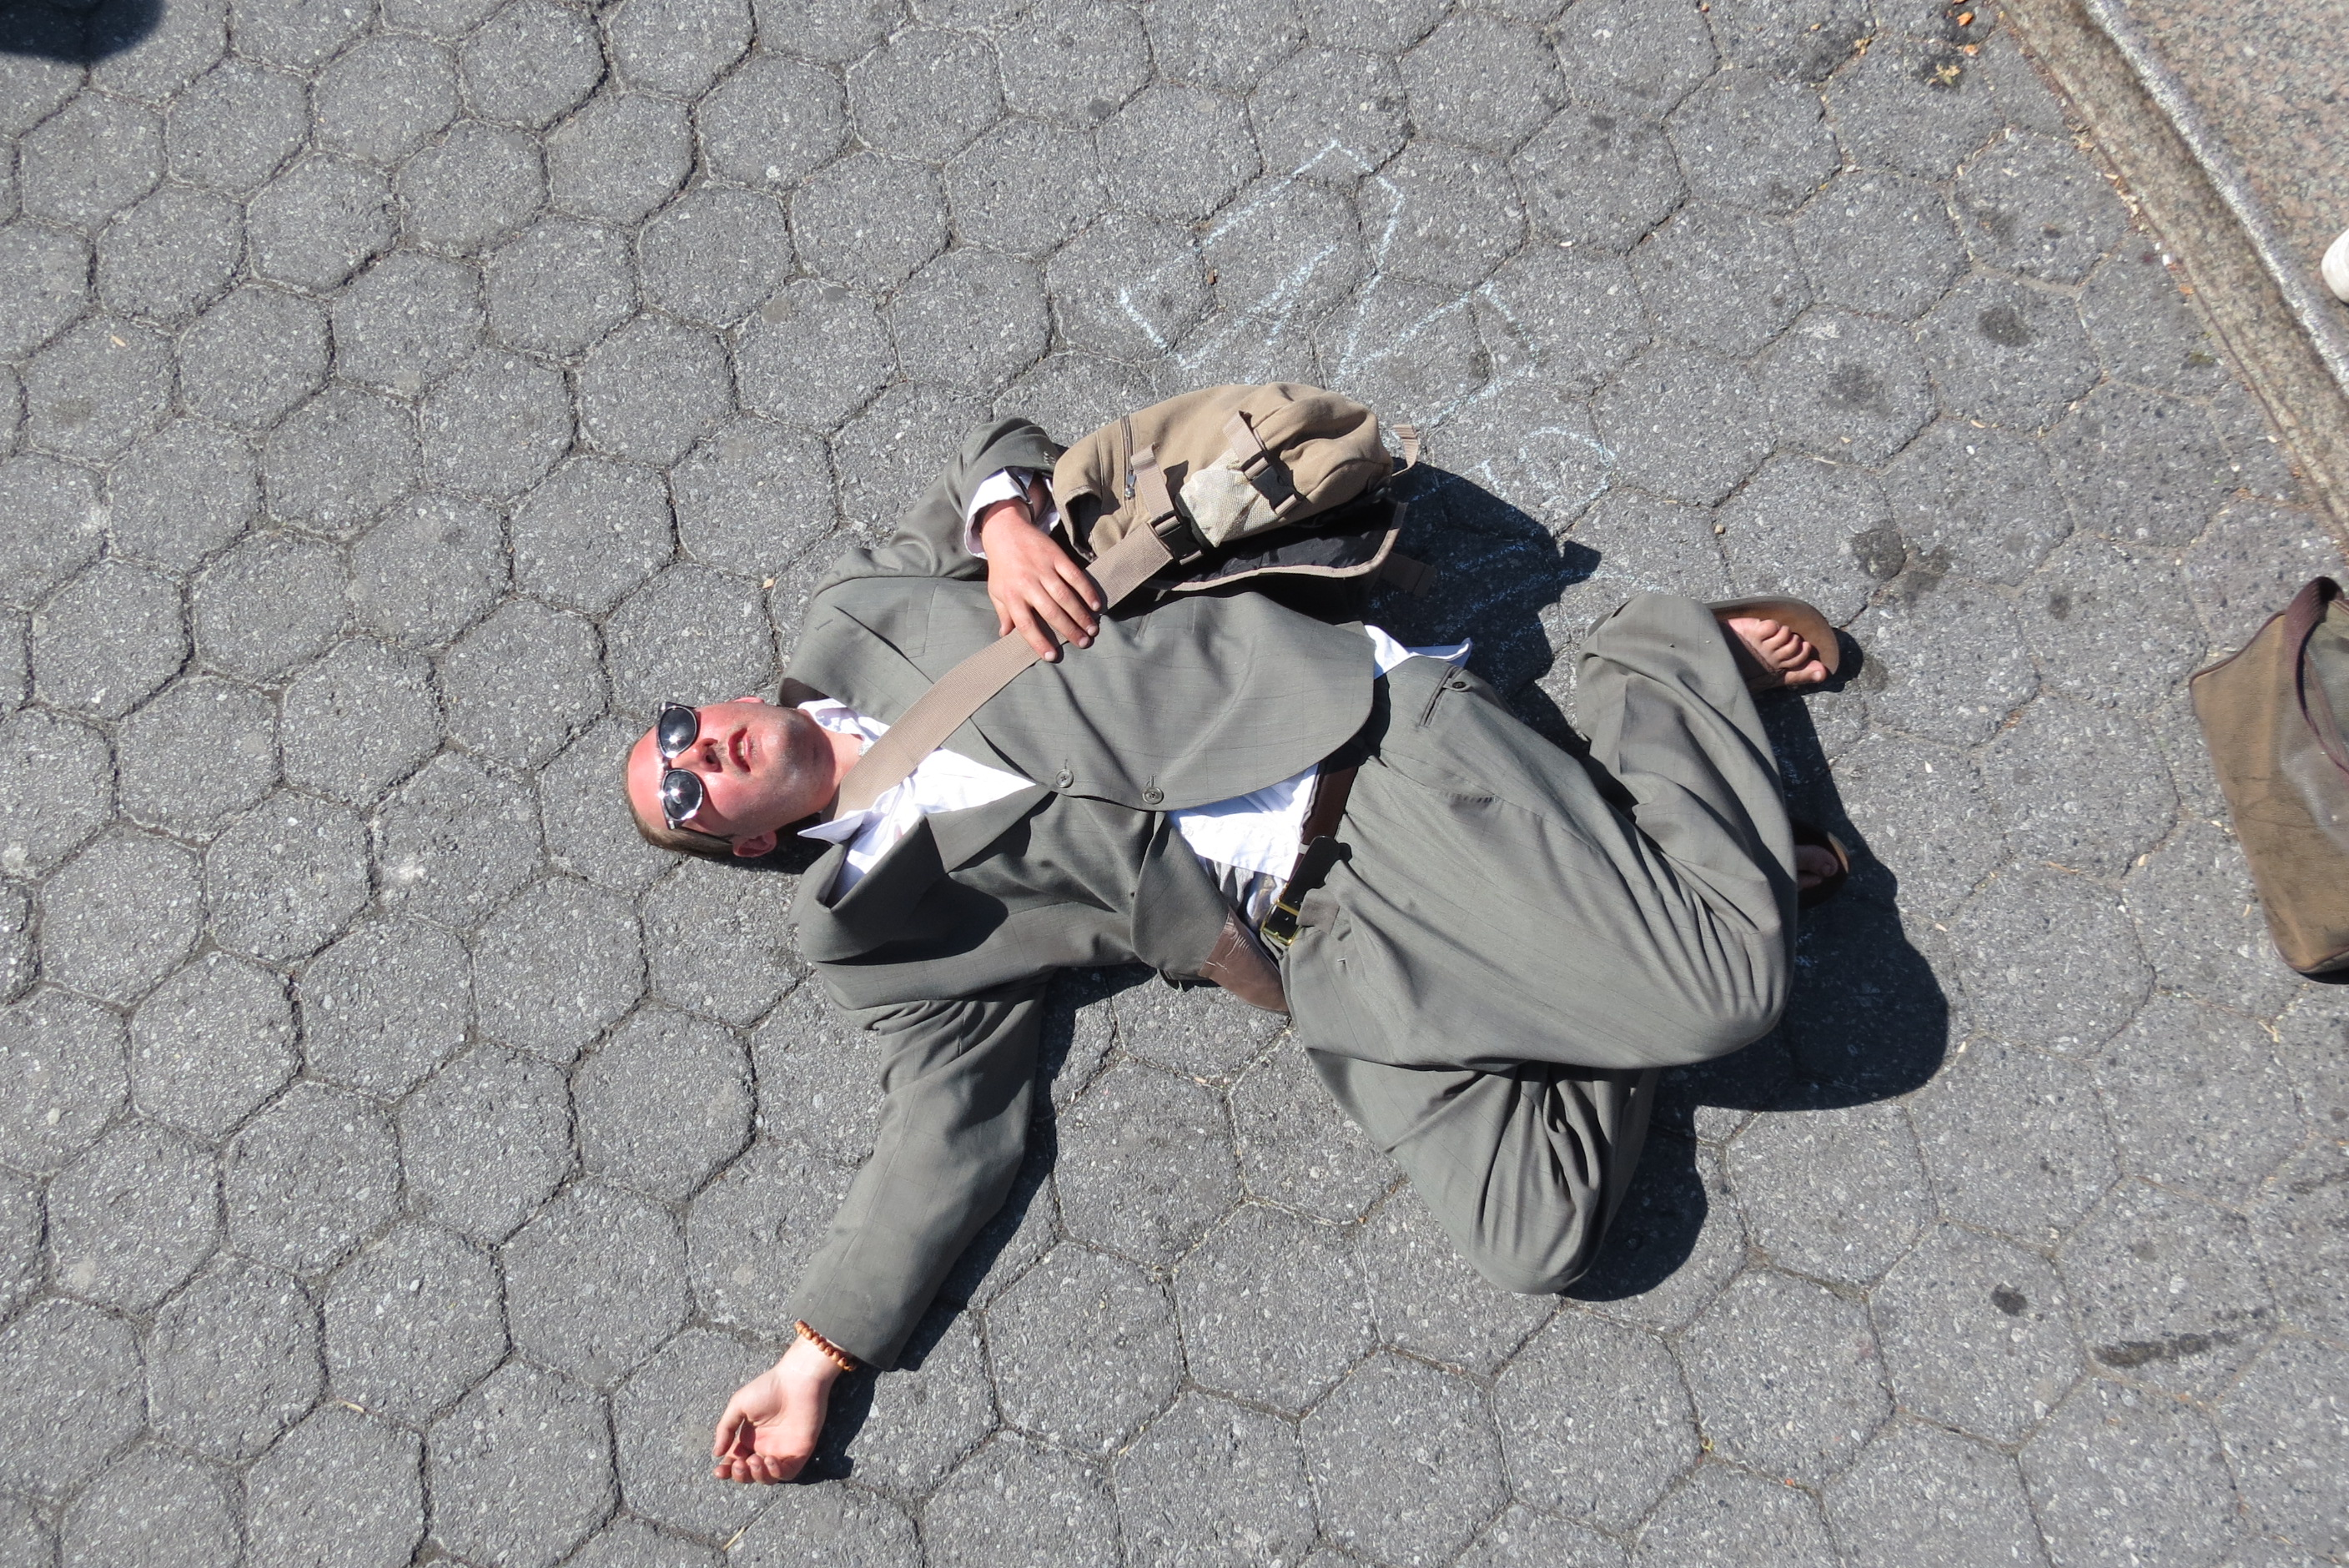collapsed: (536, 367, 1973, 1500)
